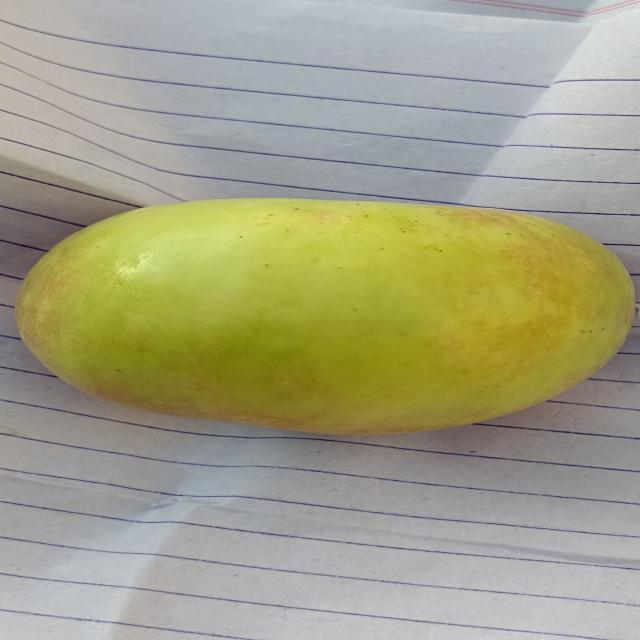Fresh Apple: (8, 187, 630, 435)
